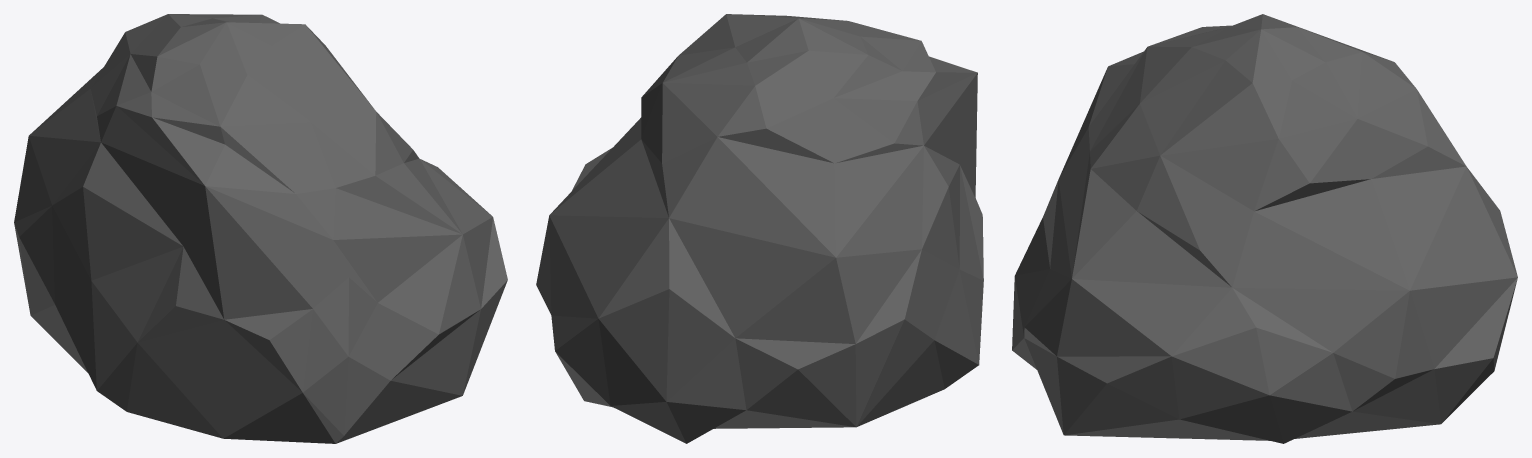
The model's file is Rock2.fbx.
3 renders of one model, left to right at view 1: azimuth 30°, elevation 25°; view 2: azimuth 150°, elevation 25°; view 3: azimuth 270°, elevation 25°, orthographic. The views are drawn at different scales.
Parts seen in each view (by area): view 1: Rock2; view 2: Rock2; view 3: Rock2.
Boxes of the visible parts, x1,y1,x2,y2 form: Rock2: (14,14,507,443); Rock2: (536,14,983,443); Rock2: (1012,14,1517,443).
Size of the model in its own units: 79.94 by 72.84 by 90.91.
